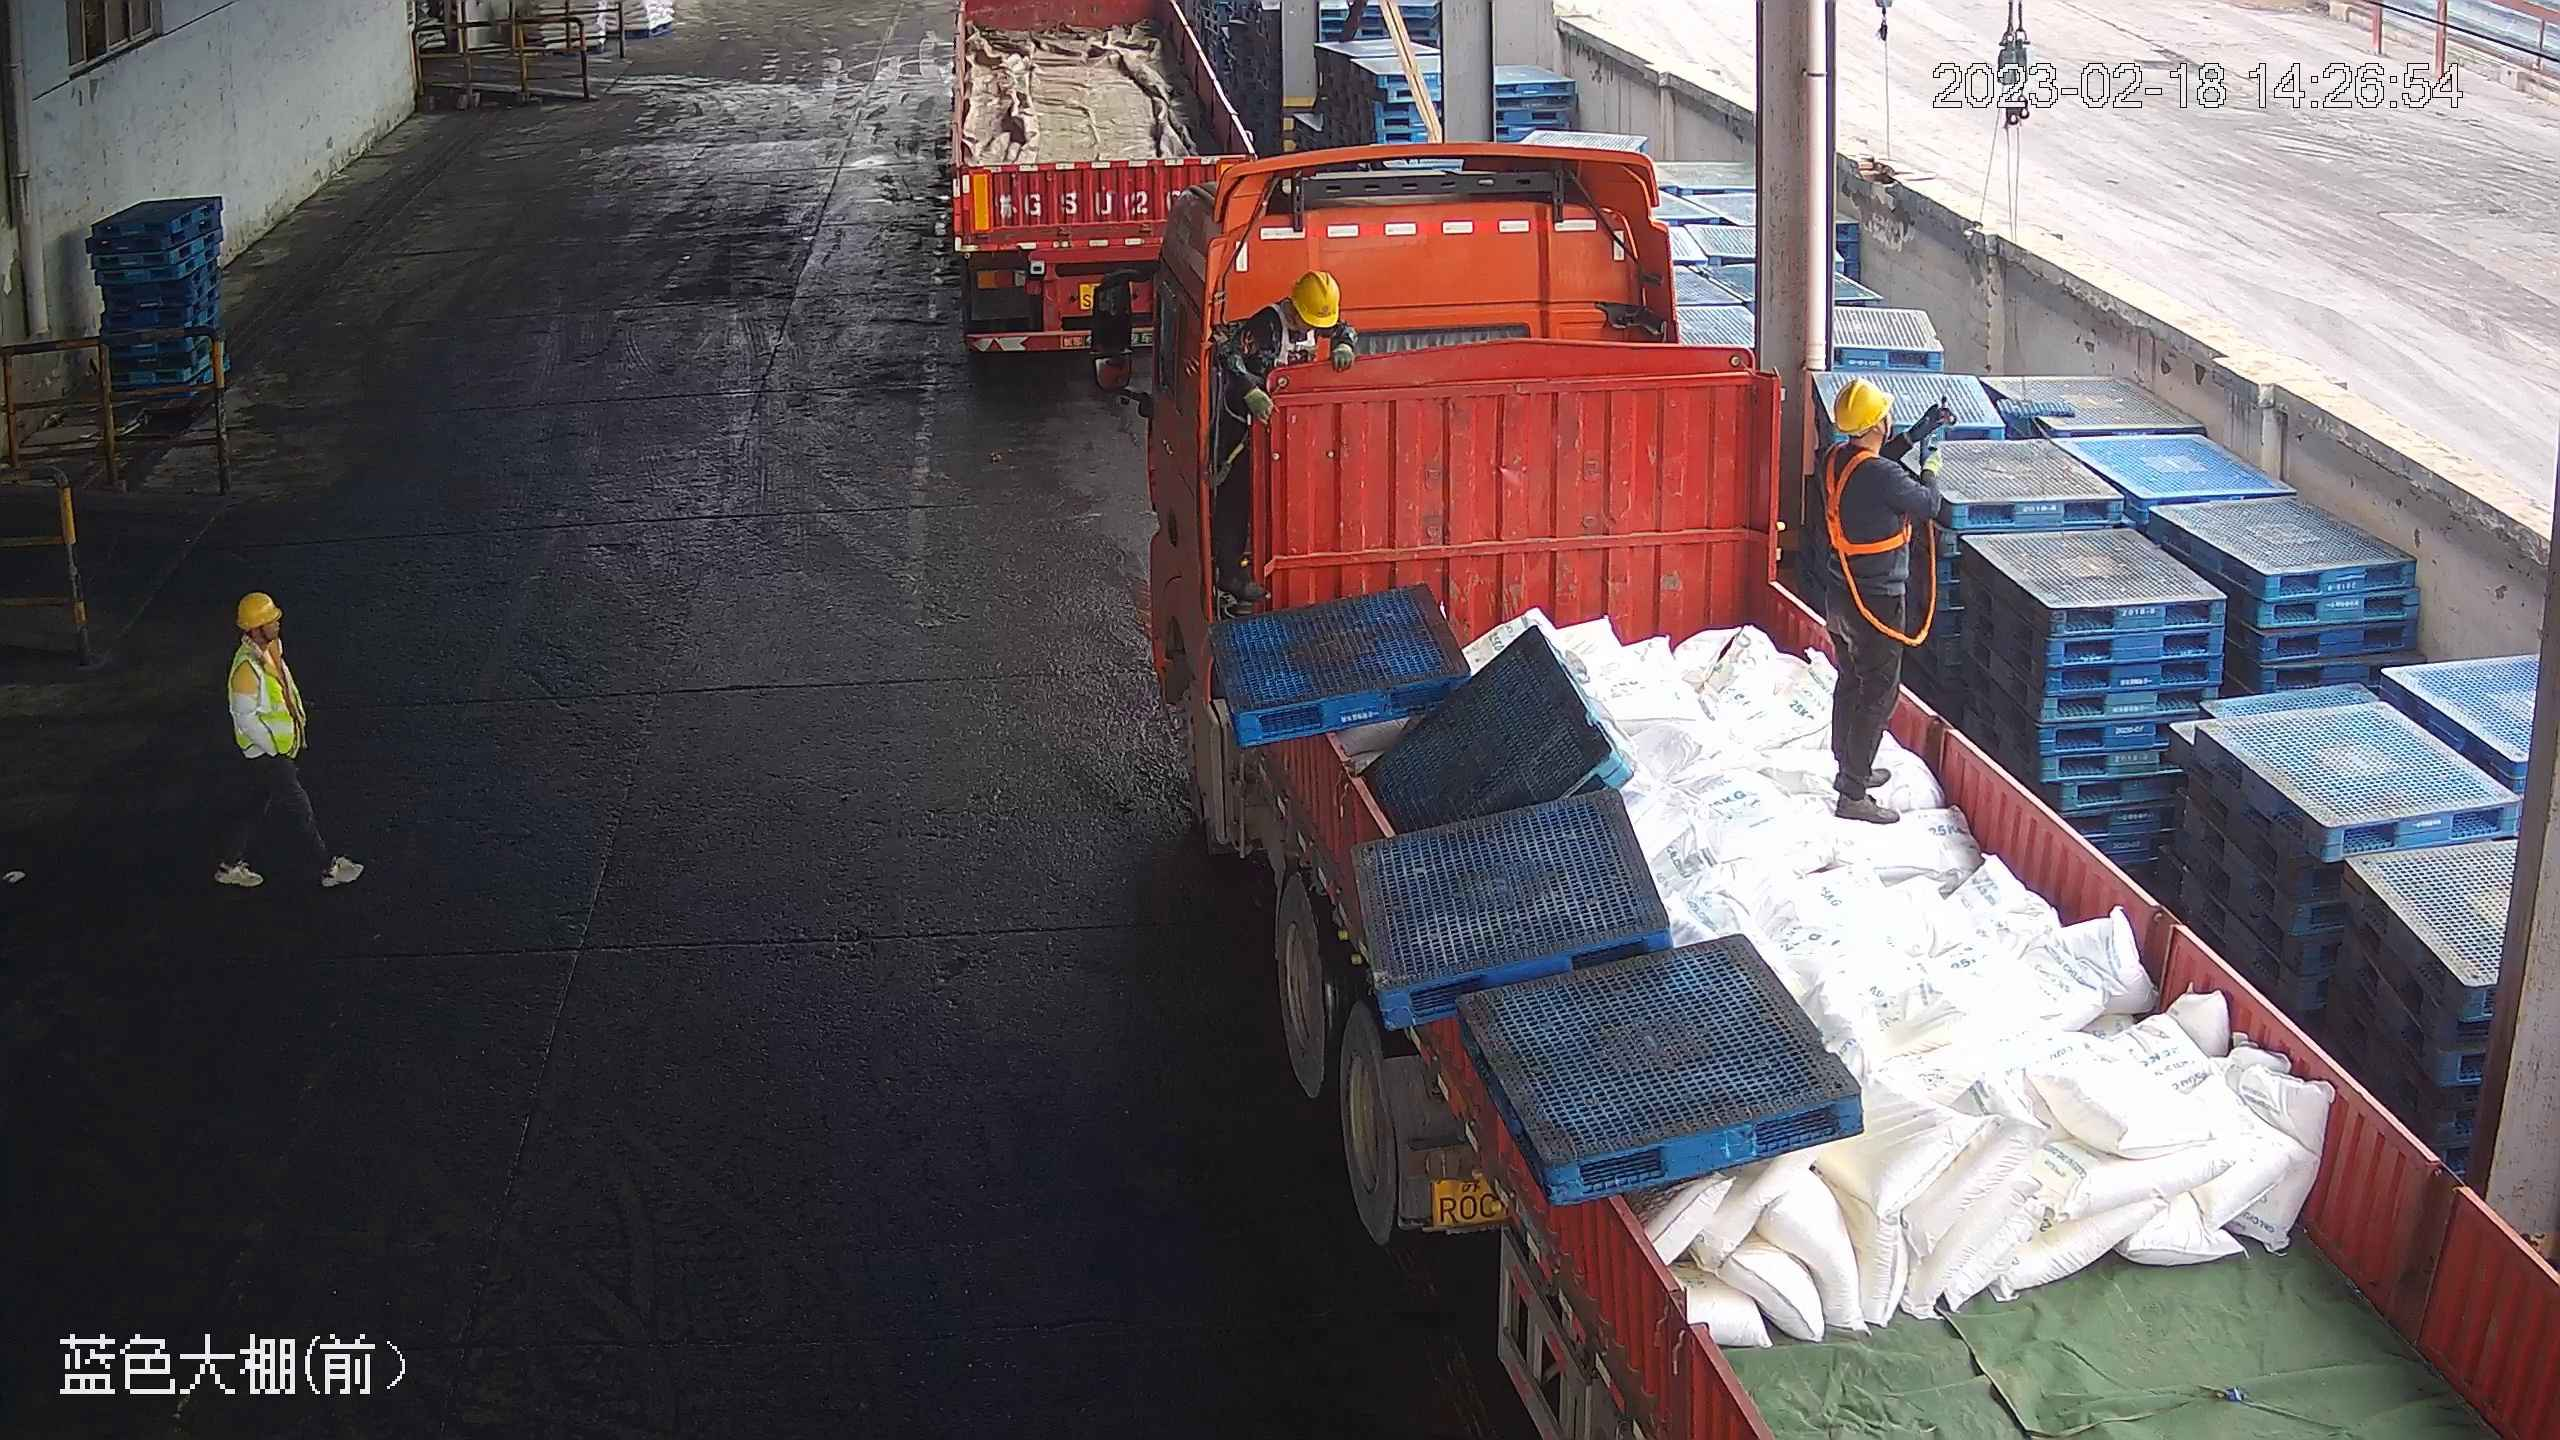belt: (1820, 446, 1915, 560), (1264, 306, 1317, 352)
head: (1813, 373, 1927, 509), (1231, 268, 1351, 358), (224, 589, 298, 687)
helmet: (1824, 371, 1893, 431), (1288, 268, 1342, 328), (233, 589, 282, 629)
people: (1804, 370, 1958, 823), (206, 585, 361, 899)
truck: (1132, 150, 2555, 1440), (928, 1, 1257, 367)
